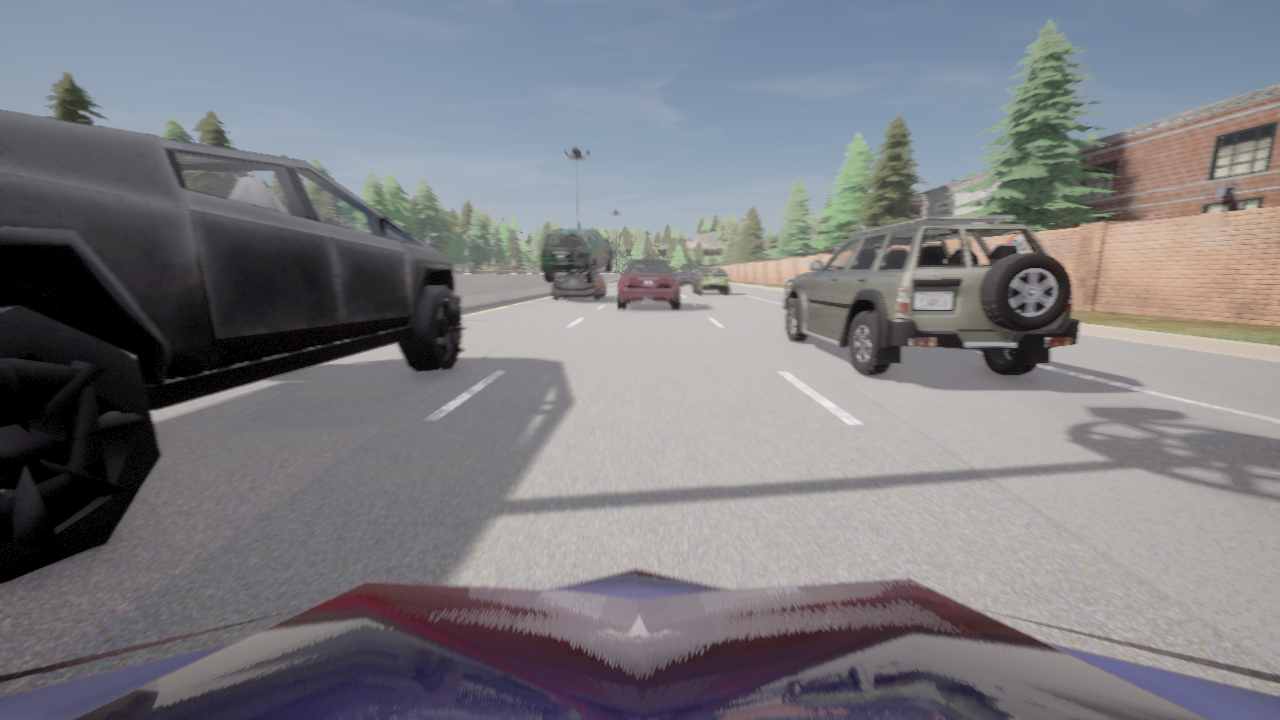cyclist: (0, 569, 1279, 719), (781, 217, 1080, 376), (540, 229, 612, 283), (617, 259, 679, 309), (552, 271, 605, 299), (692, 268, 728, 294), (678, 271, 697, 286)
